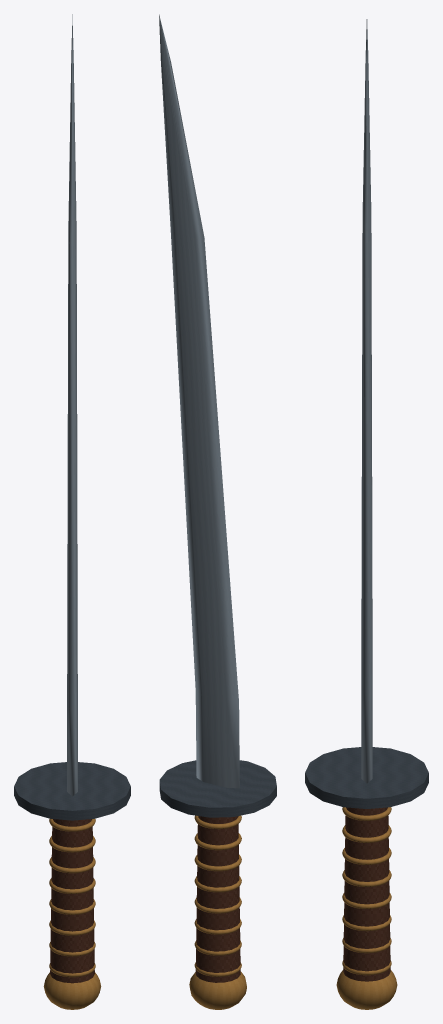
The model's file is katana.lod1.glb.
3 views of the same model, side by side, from view 1: azimuth 90°, elevation 25°; view 2: azimuth 150°, elevation 25°; view 3: azimuth 270°, elevation 25° (orthographic). The views are drawn at different scales.
Visible parts, largest first — view 1: blade, leather.0, iron.11, brass.10, brass.7; view 2: blade, leather.0, iron.11, brass.10, brass.7, brass.6; view 3: blade, leather.0, iron.11, brass.10, brass.7, brass.6, brass.8.
Boxes of the visible parts, x1=… form: blade: x1=67, y1=14, x2=77, y2=796; leather.0: x1=50, y1=819, x2=94, y2=983; iron.11: x1=14, y1=762, x2=130, y2=820; brass.10: x1=43, y1=972, x2=101, y2=1009; brass.7: x1=49, y1=836, x2=95, y2=852; blade: x1=159, y1=14, x2=239, y2=788; leather.0: x1=195, y1=816, x2=240, y2=982; iron.11: x1=159, y1=760, x2=276, y2=817; brass.10: x1=189, y1=971, x2=246, y2=1009; brass.7: x1=194, y1=833, x2=241, y2=850; brass.6: x1=194, y1=854, x2=241, y2=871; blade: x1=361, y1=19, x2=372, y2=783; leather.0: x1=343, y1=807, x2=390, y2=981; iron.11: x1=305, y1=747, x2=428, y2=808; brass.10: x1=336, y1=970, x2=397, y2=1009; brass.7: x1=342, y1=825, x2=391, y2=842; brass.6: x1=342, y1=848, x2=391, y2=864; brass.8: x1=342, y1=807, x2=391, y2=820.
Size of the model in its own units: 0.1401 by 1.19 by 0.13.
4 materials, 4 textured.
